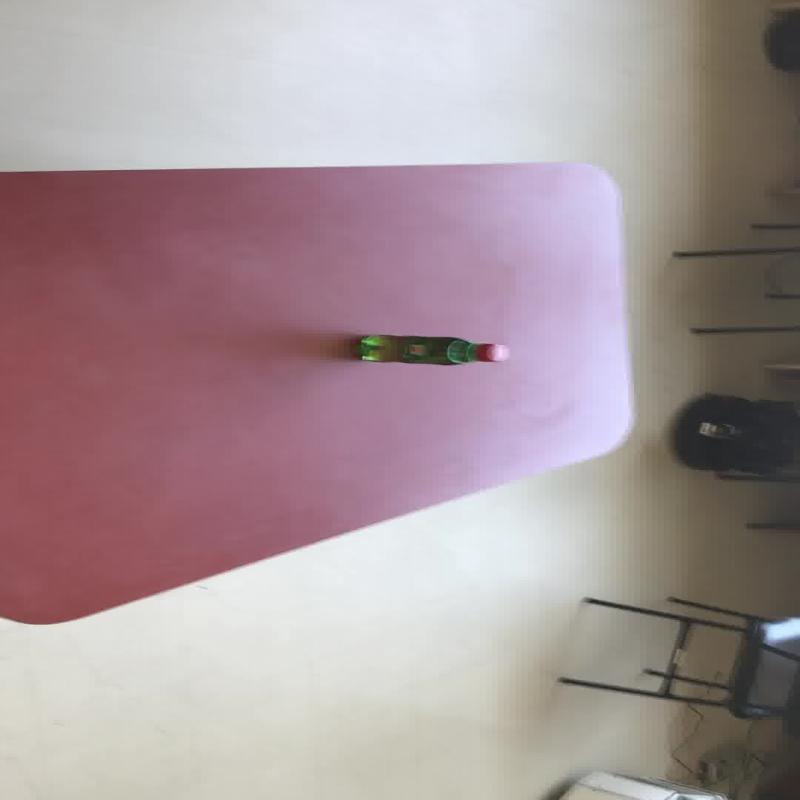guarana: (353, 333, 509, 365)
